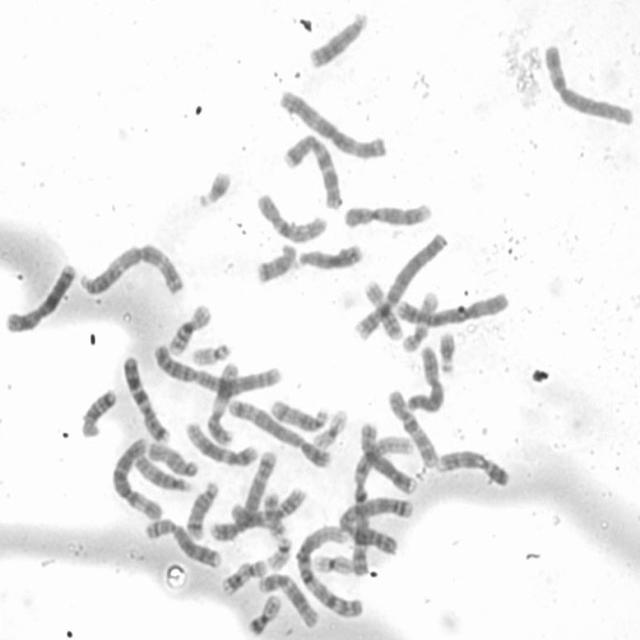A1: (345, 432, 414, 577), (293, 522, 366, 620)
A2: (150, 342, 282, 396), (337, 494, 415, 558)
A3: (274, 86, 388, 161), (76, 240, 186, 299)
B4: (351, 228, 449, 342), (390, 290, 510, 328)
B5: (226, 396, 334, 468), (207, 446, 277, 543)
C10: (385, 387, 439, 469), (252, 189, 328, 246)
C11: (226, 483, 308, 529), (204, 359, 239, 447)
C12: (256, 568, 321, 630), (183, 418, 258, 467)
C6: (541, 40, 635, 126), (108, 435, 164, 519)
C7: (280, 128, 346, 211), (120, 353, 171, 443)
C8: (141, 515, 223, 570), (358, 420, 417, 495)
C9: (434, 446, 512, 489), (342, 199, 434, 229)
D13: (305, 8, 370, 70), (292, 240, 365, 272)
D14: (267, 396, 330, 433), (183, 478, 220, 539)
D15: (131, 452, 195, 494), (145, 438, 199, 478)
E16: (360, 277, 403, 342), (165, 299, 213, 356)
E17: (398, 288, 439, 355), (218, 556, 268, 598)
E18: (76, 384, 118, 440), (252, 239, 298, 285)
F19: (310, 407, 349, 450), (311, 550, 355, 577)
F20: (245, 591, 283, 636), (260, 488, 286, 538)
G21: (193, 166, 234, 211), (436, 329, 458, 375)
G22: (189, 339, 232, 367), (264, 532, 293, 572)
X: (1, 258, 80, 334), (405, 343, 446, 414)
